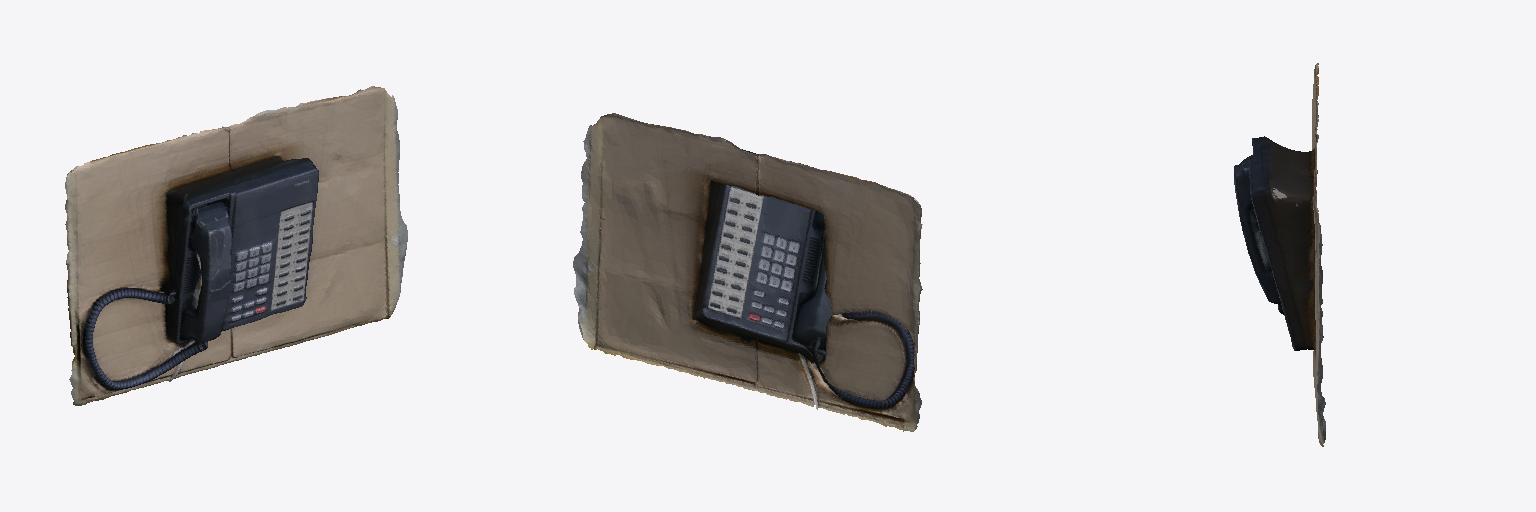
The picture shows the model from 3 angles: view 1: azimuth 30°, elevation 25°; view 2: azimuth 150°, elevation 25°; view 3: azimuth 270°, elevation 25°; orthographic projection.
Size of the model in its own units: 31.39 by 21.69 by 7.28.
Materials: 2 (1 with a texture image).